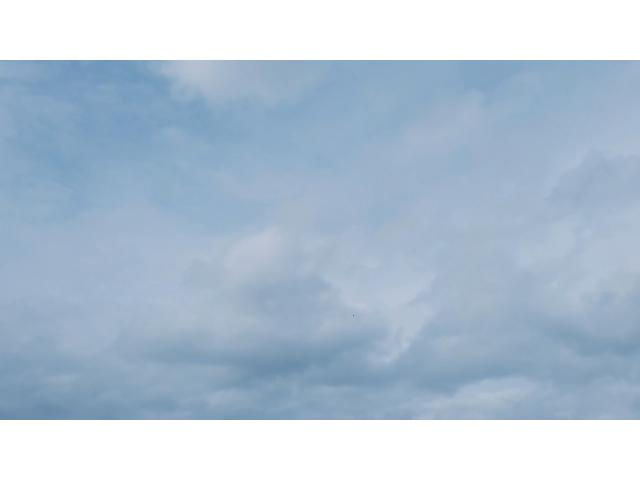Anti-Drone: (348, 310, 358, 320)
